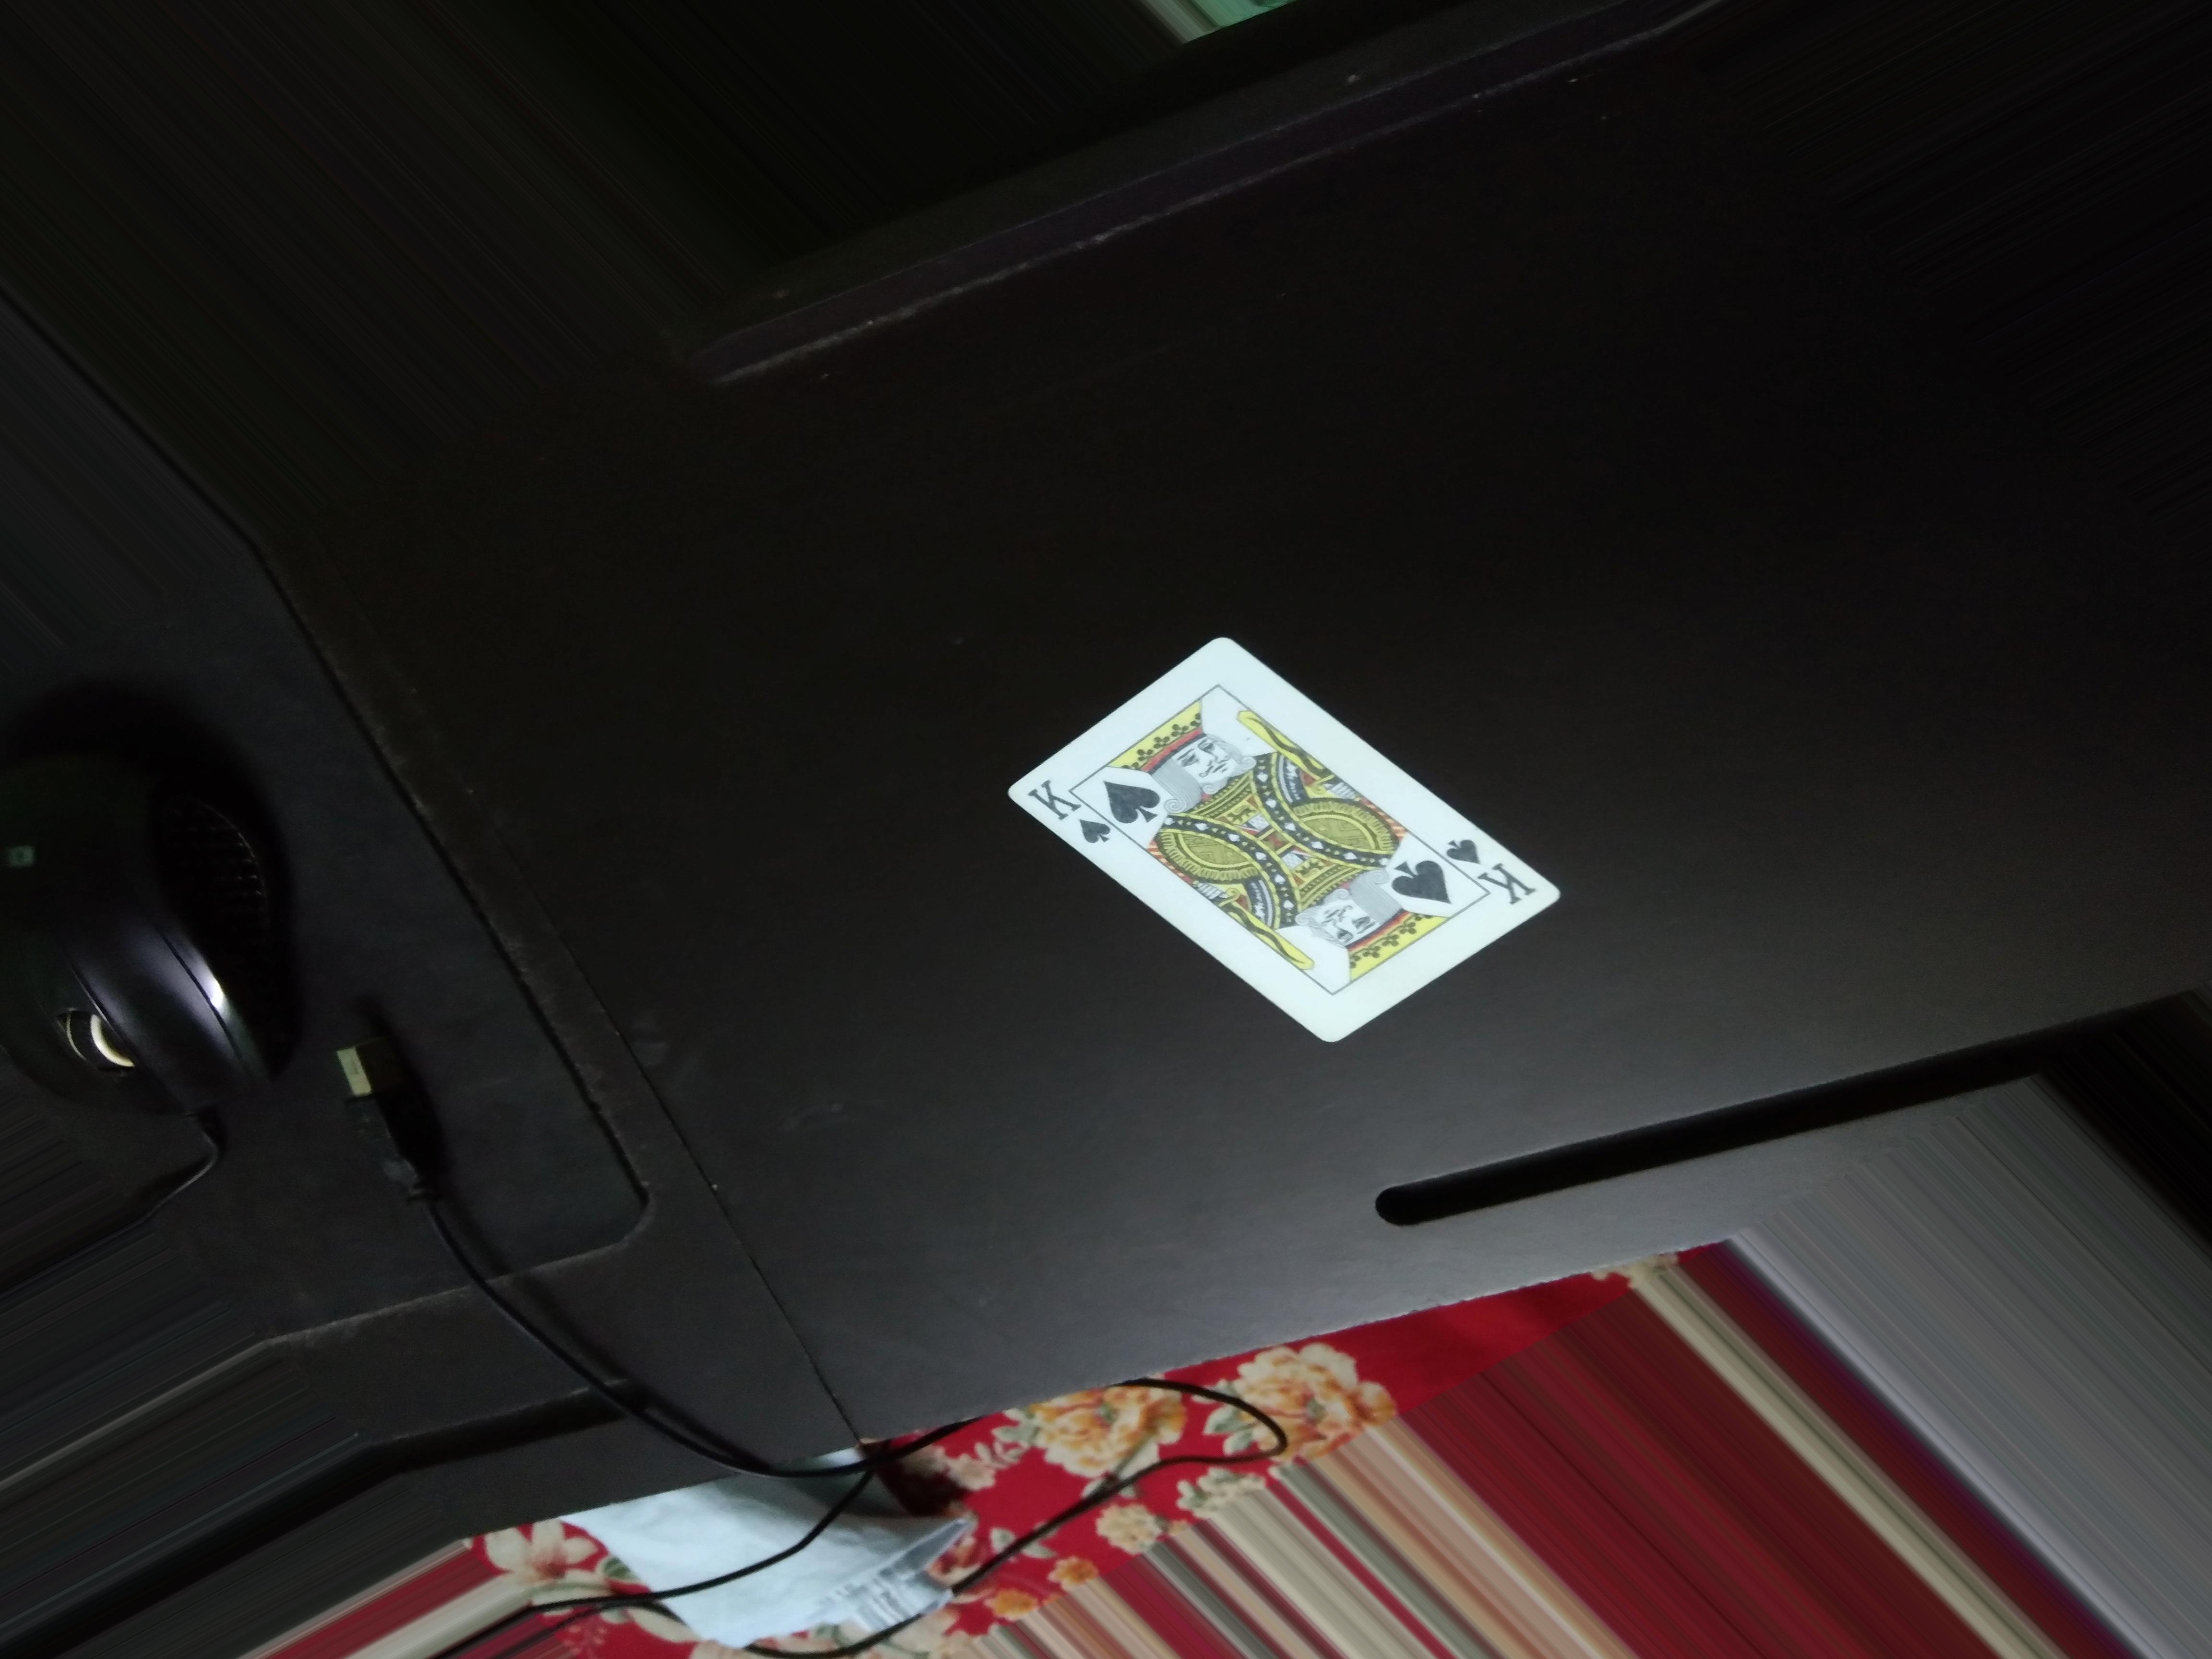KS: (1440, 816, 1529, 910)
